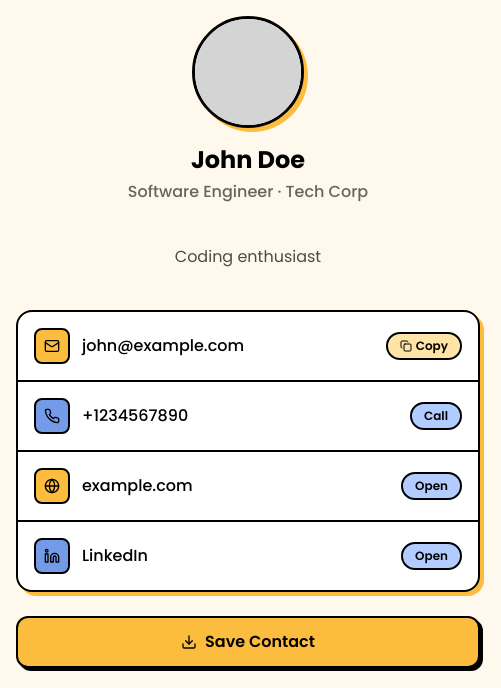
Scenario: BusinessCardMode › should copy email to clipboard
This screenshot has width=501, height=688.
Click the button "john@example.com Copy" at x=52, y=346, box [18, 312, 478, 382]
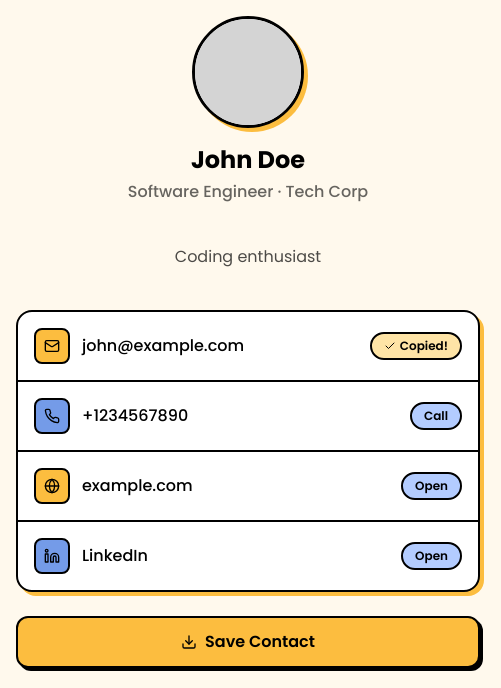
Expected: the text "Copied!" is shown, [370, 332, 462, 360]
